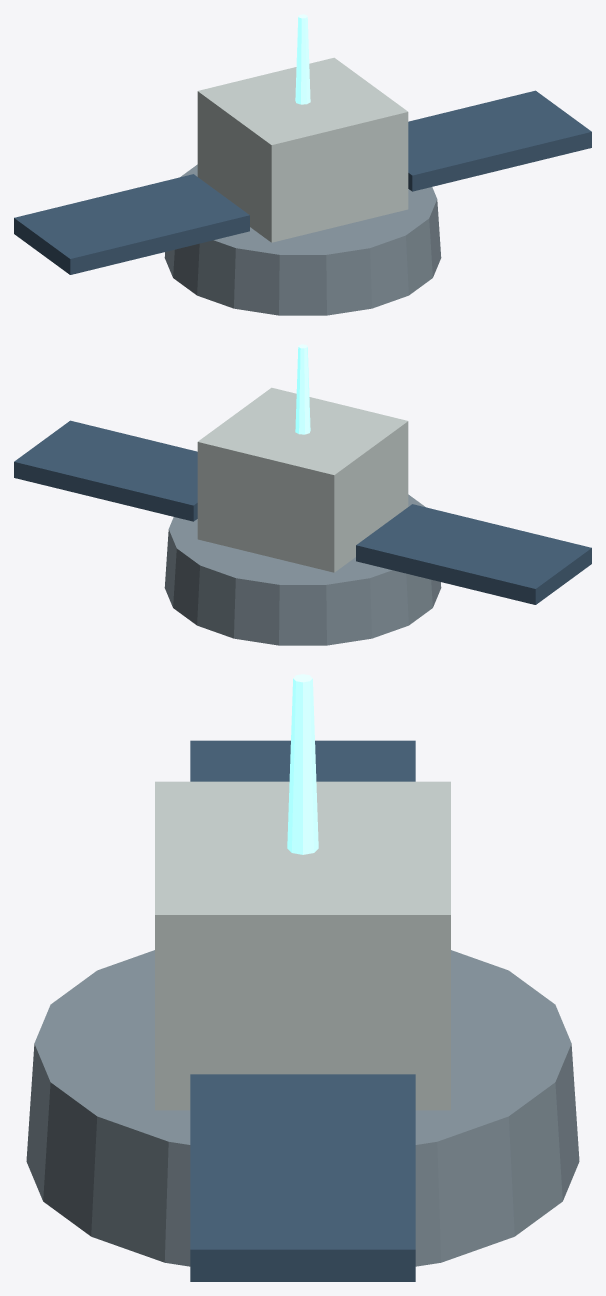
Rendered from SaturnStation.glb.
3 views of the same model, one above another, from view 1: azimuth 30°, elevation 25°; view 2: azimuth 150°, elevation 25°; view 3: azimuth 270°, elevation 25° (orthographic). The views are drawn at different scales.
Visible parts, largest first — view 1: SaturnStationHull; view 2: SaturnStationHull; view 3: SaturnStationHull.
Part boxes in pixels (x1,y1,x2,y2): SaturnStationHull: (14,14,591,315); SaturnStationHull: (14,344,591,645); SaturnStationHull: (26,674,579,1281).
Size of the model in its own units: 3.05 by 1.35 by 1.4.
